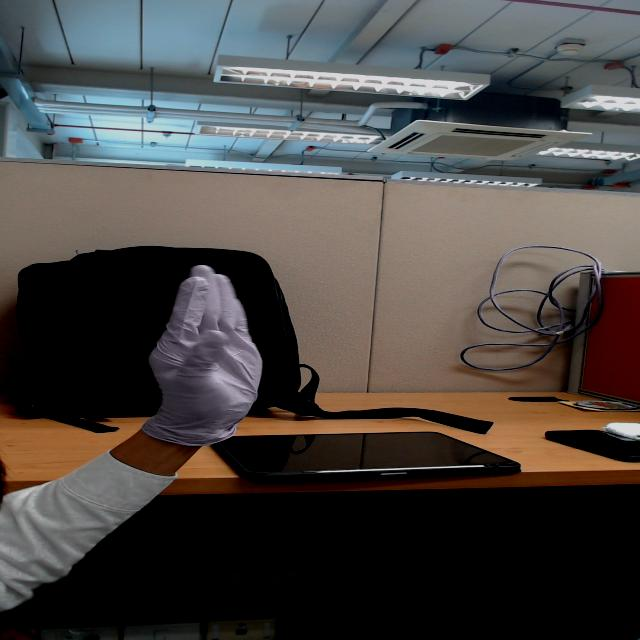glove: (126, 254, 286, 392)
